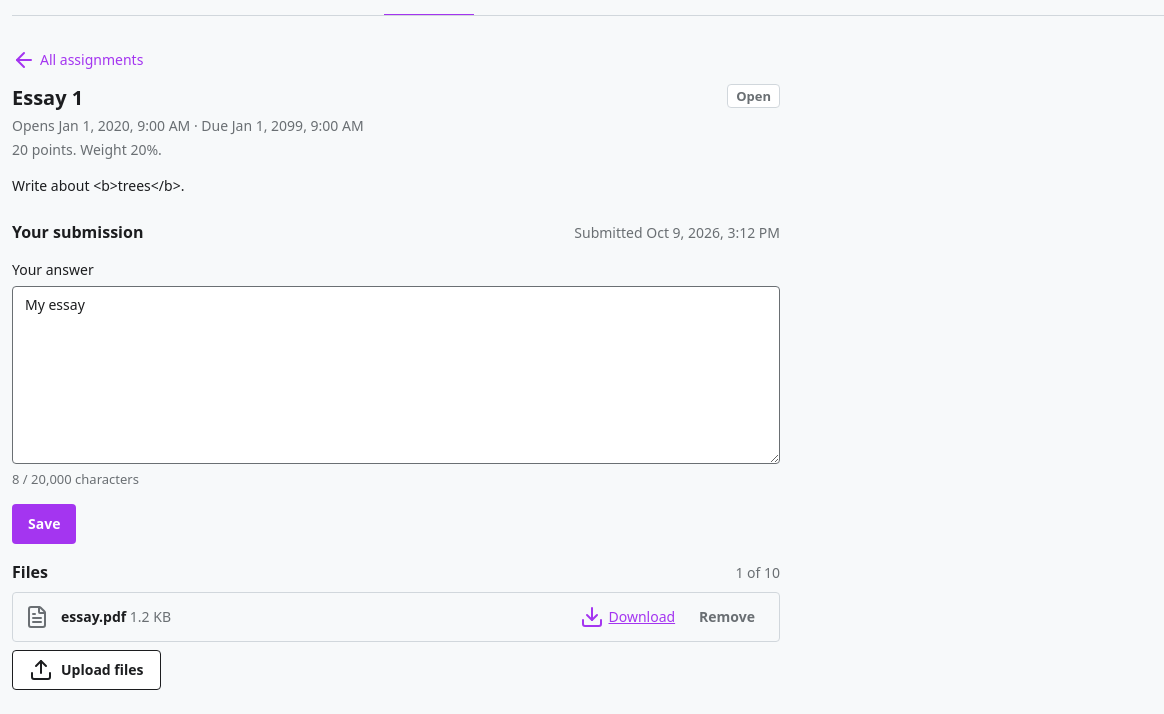
it: lists files with cookie-bound download links and Remove deletes
The width and height of the screenshot is (1164, 714).
(page scrolled)
Check: the text "1 of 10" is shown, box [735,563,780,583]
Click the button with aria-label "Remove essay.pdf": (727, 617) [687,601,767,633]
(page scrolled)
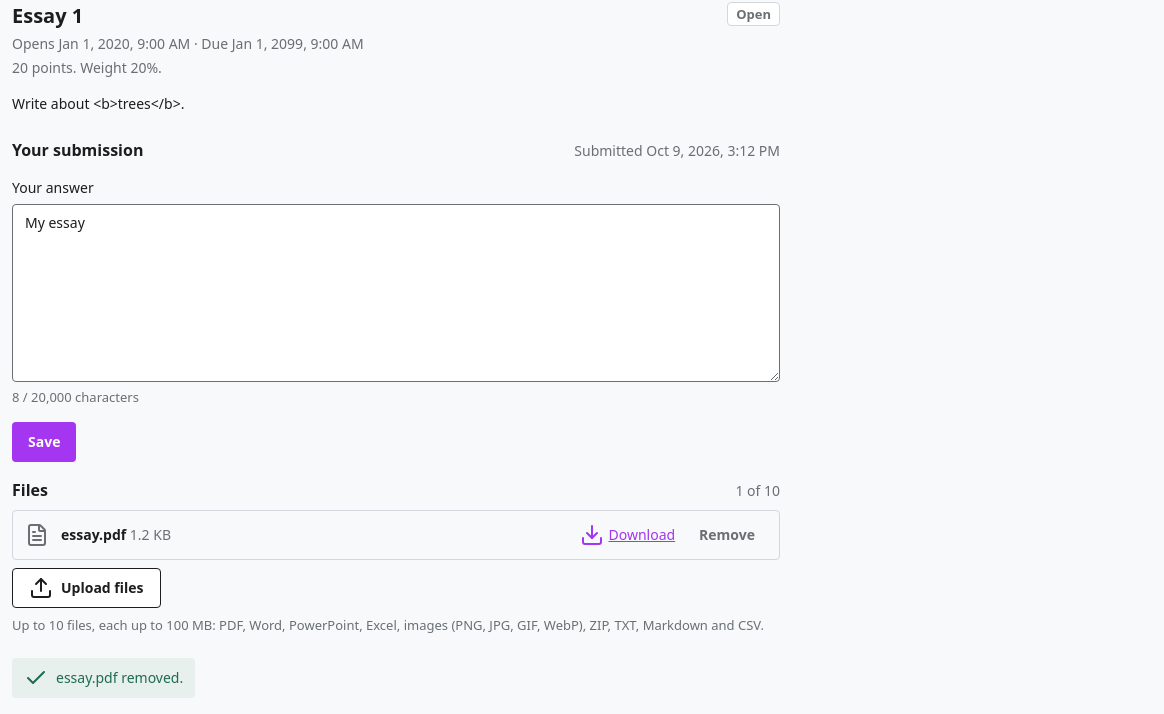
Check: the text "essay.pdf removed." is shown, box [12,658,195,698]
